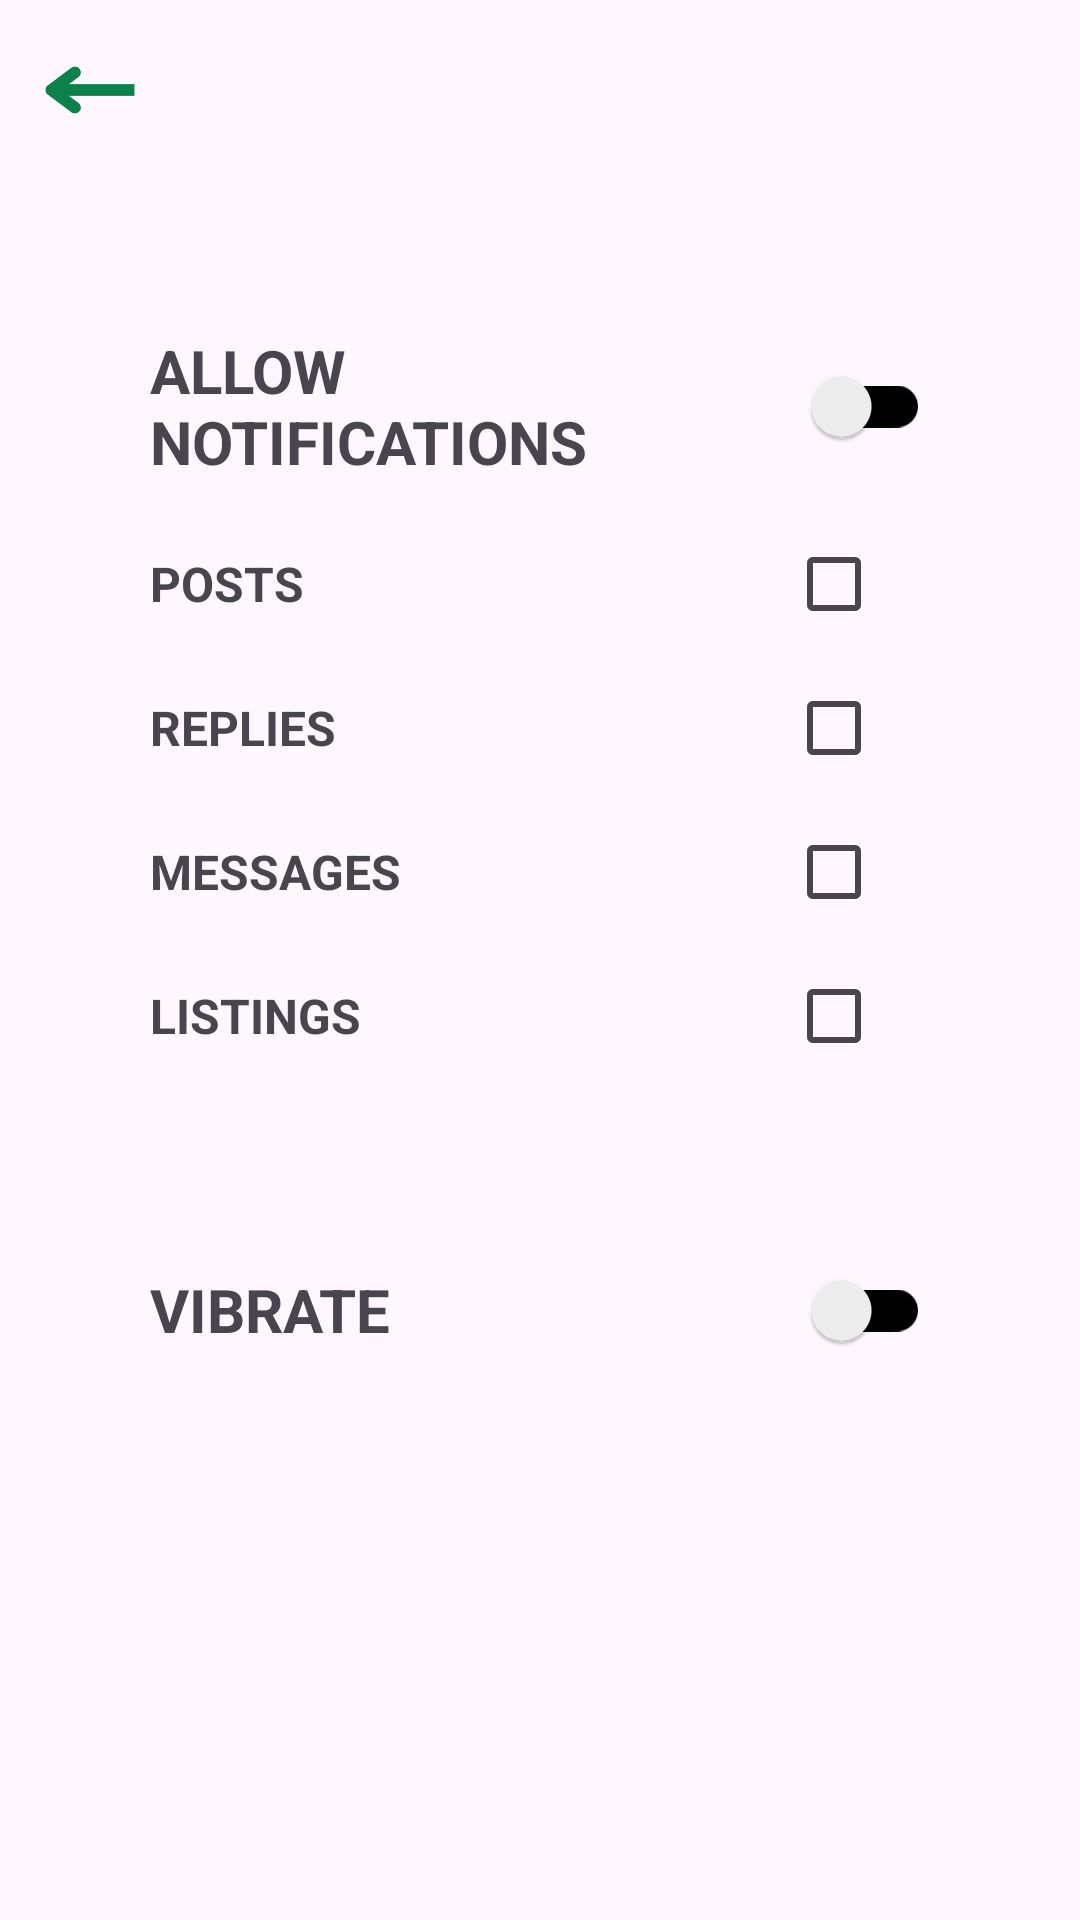

Named icons in this screenshot (1080×1920) and their centers, (x=x, y=y):
back settings: (x=90, y=90)
